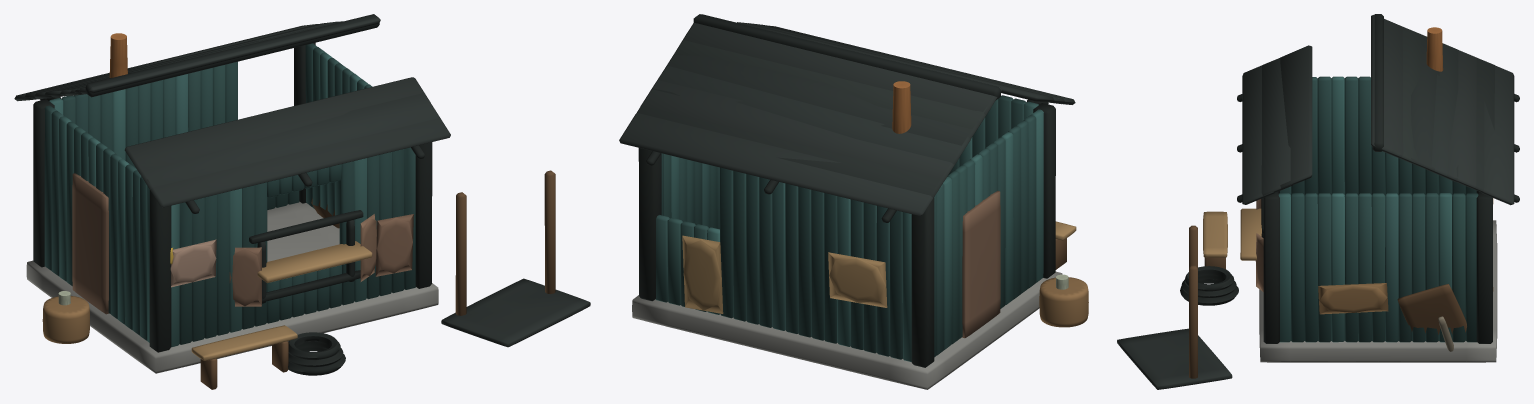
The model's file is billing_booth_c.glb.
The picture shows the model from 3 angles, left to right: view 1: azimuth 30°, elevation 25°; view 2: azimuth 150°, elevation 25°; view 3: azimuth 270°, elevation 25°; orthographic projection. The views are drawn at different scales.
Visible parts, largest first — view 1: Surface; view 2: Surface; view 3: Surface.
Boxes of the visible parts, left/top/right/bottom form: Surface: left=14, top=14, right=590, bottom=389; Surface: left=619, top=14, right=1088, bottom=389; Surface: left=1117, top=14, right=1519, bottom=389.
Size of the model in its own units: 7.49 by 4.1 by 6.43.
